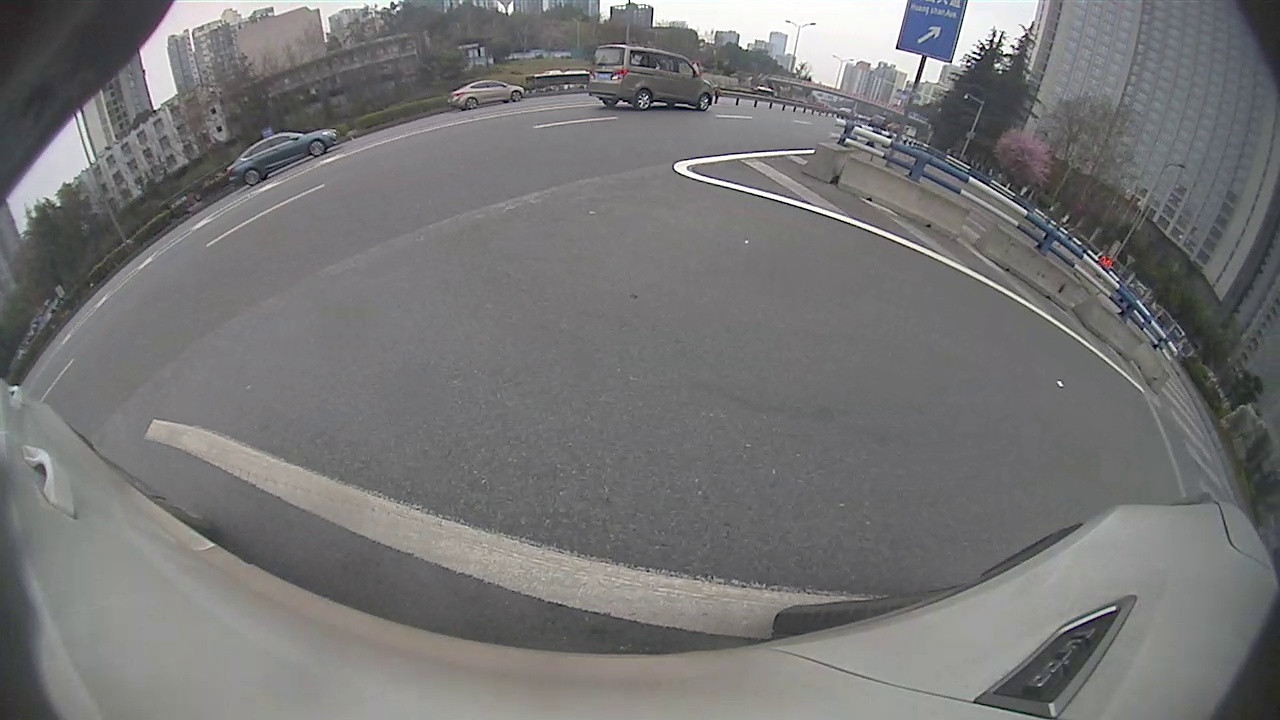car: (586, 45, 718, 113), (226, 130, 339, 187), (448, 80, 525, 111)
front: (307, 139, 326, 158), (697, 93, 712, 112), (510, 89, 523, 102)
rear: (634, 88, 653, 112), (243, 168, 261, 186), (465, 97, 479, 110)
